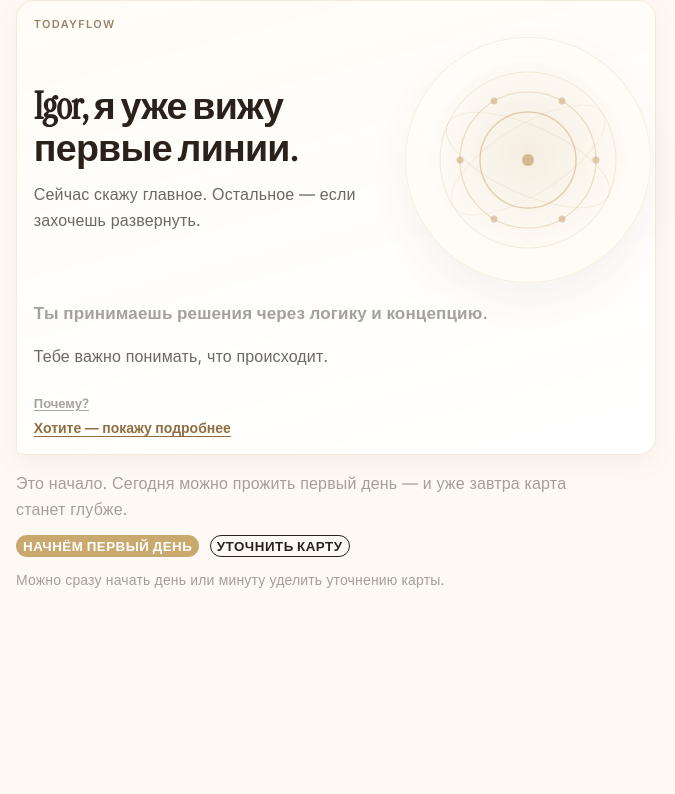
Scenario: FirstResultScreen › renders conversation opening with CTAs and deepen panel
Check: the text "Это начало" is shown, box [16,473,566,519]
Click the button "Почему?" at [61, 403], box [34,393,89,413]
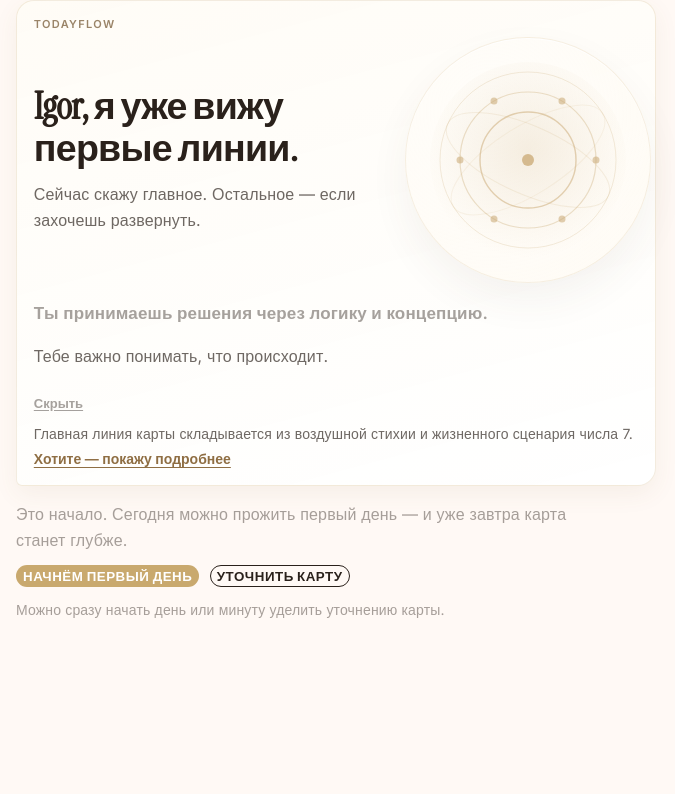
Check: the text "воздушной" is shown, box [34,425,633,442]
Click the button "Хотите — покажу подробнее" at [132, 458], box [34,450,231,467]
(page scrolled)
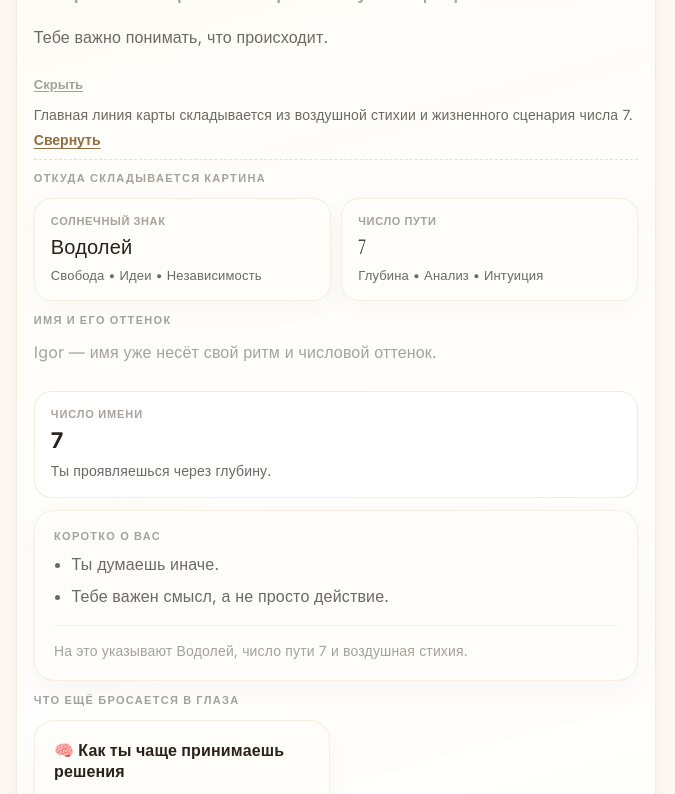
Check: the element with test id "name-insight-section" is shown, box [34,313,638,498]
